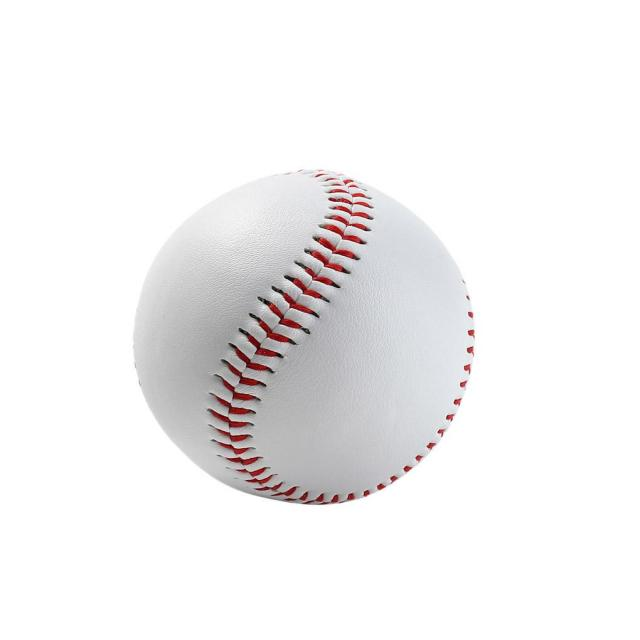baseball: (130, 165, 475, 505)
